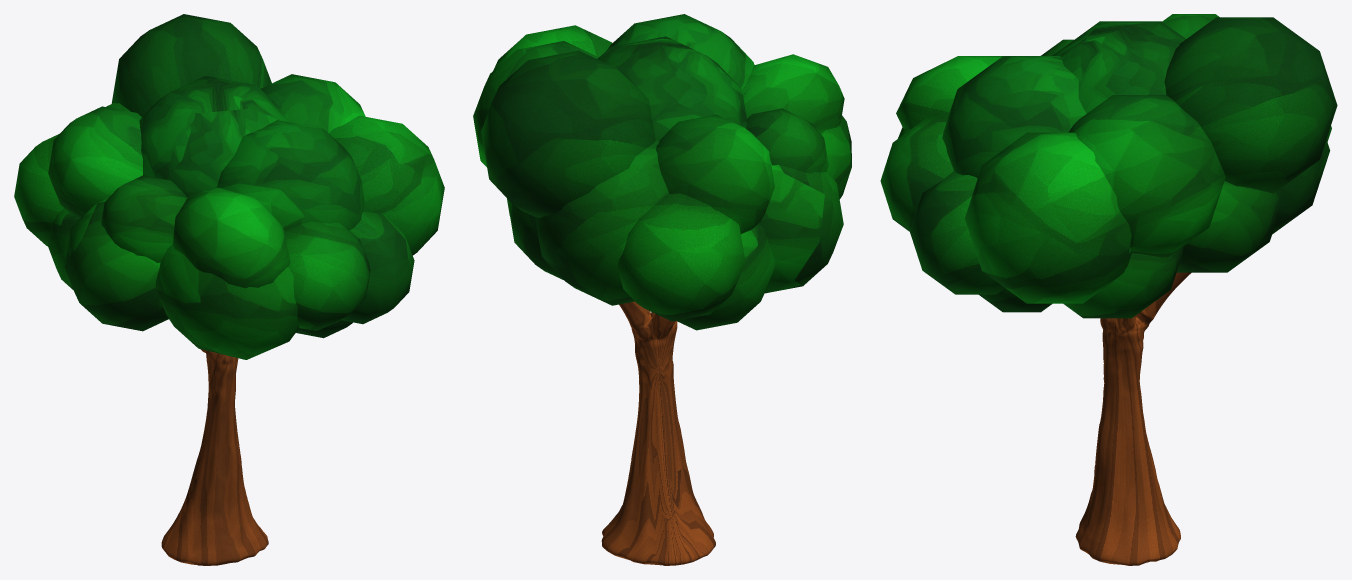
The model's file is your-model.glb.
The picture shows the model from 3 angles, left to right: view 1: azimuth 30°, elevation 25°; view 2: azimuth 150°, elevation 25°; view 3: azimuth 270°, elevation 25°; orthographic projection. The views are drawn at different scales.
Visible parts, largest first — view 1: tree; view 2: tree; view 3: tree.
Part boxes in pixels (x1,y1,x2,y2): tree: [14, 14, 444, 565]; tree: [473, 14, 851, 565]; tree: [880, 14, 1337, 565].
Size of the model in its own units: 11.29 by 15.64 by 11.98.
Materials: 2 (2 with a texture image).
